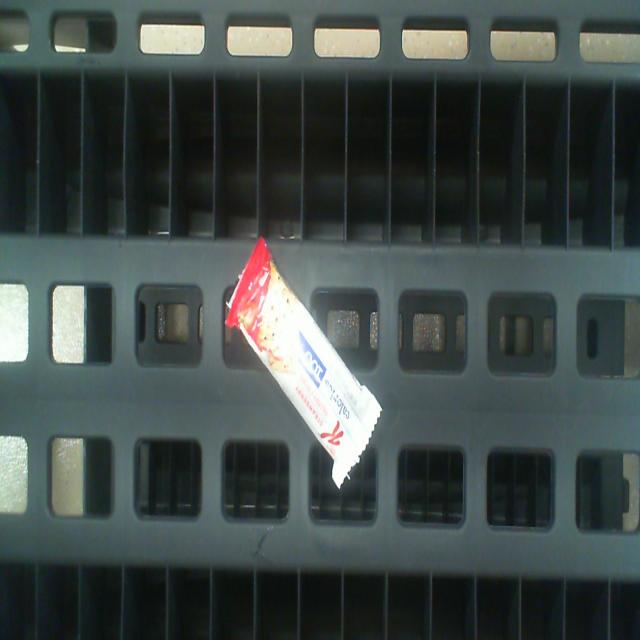snack: (230, 245, 376, 479)
